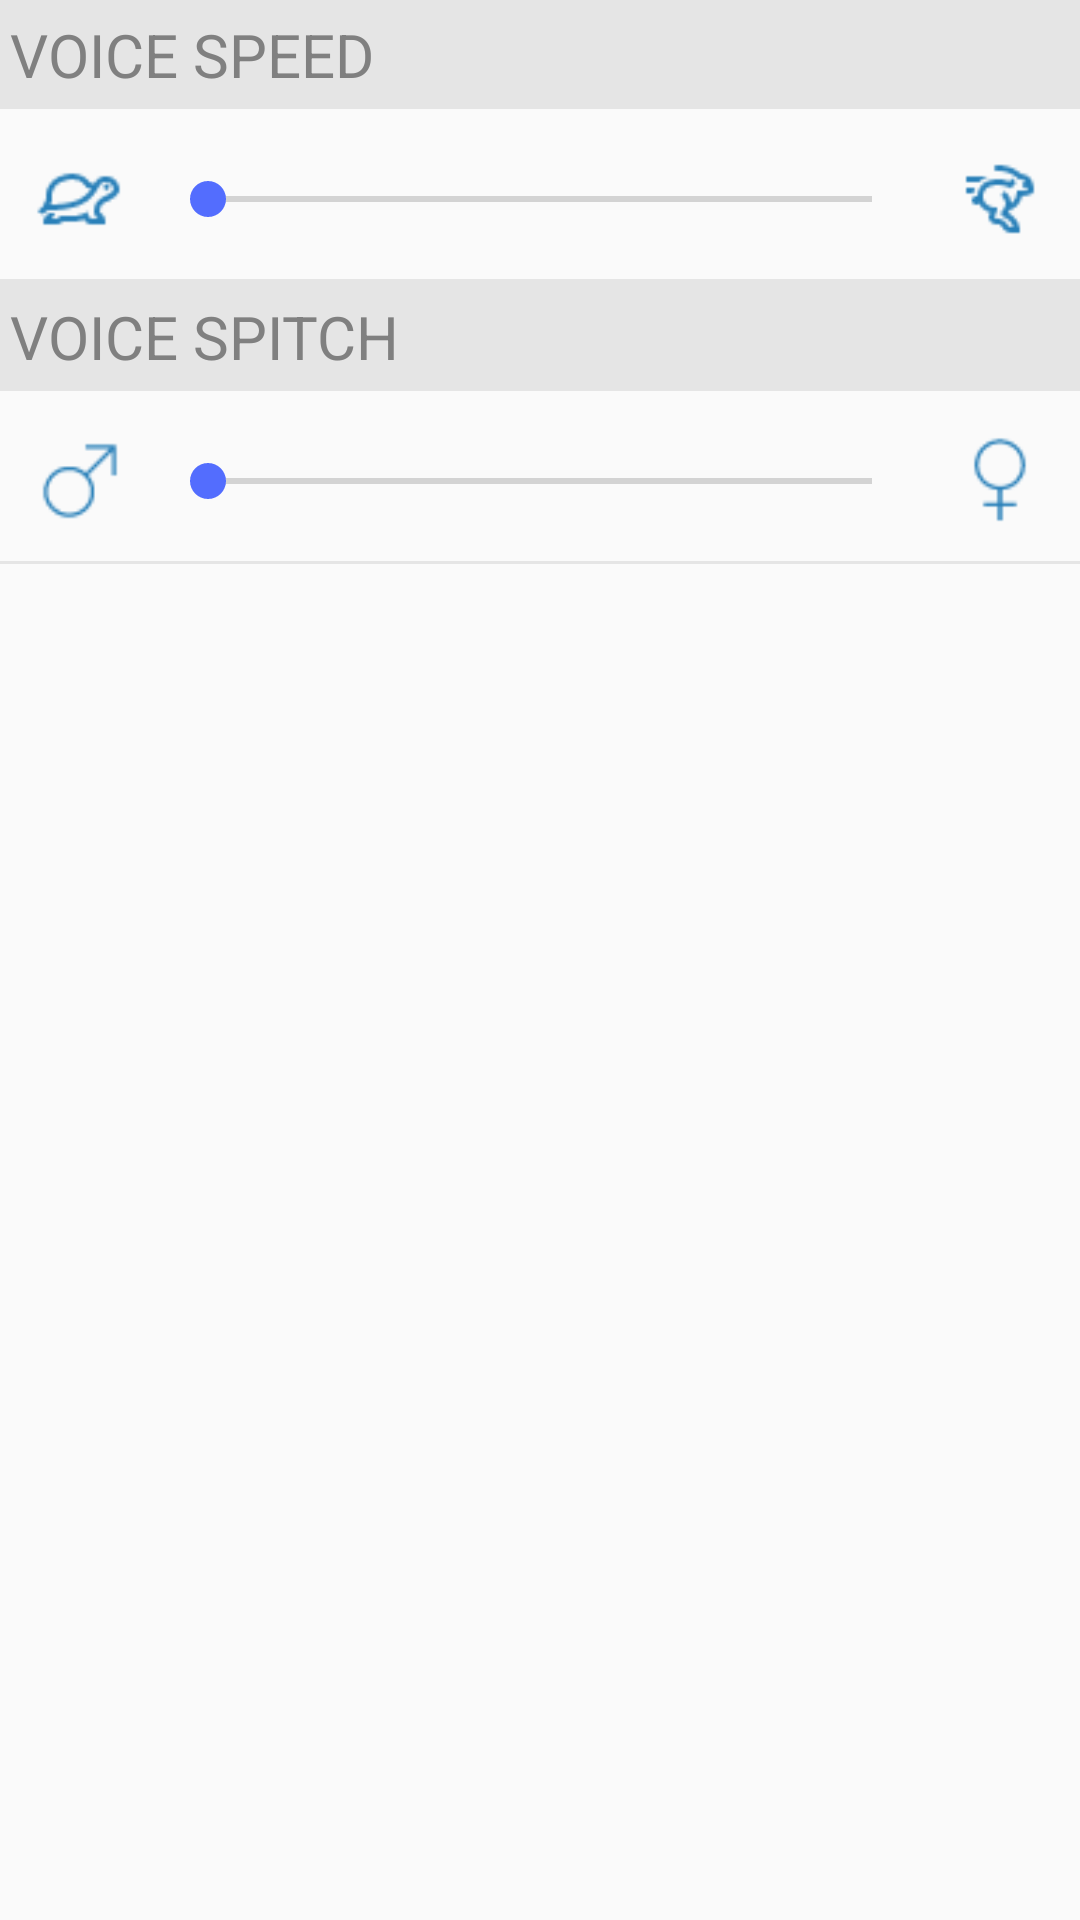

Screen size 1080px x 1920px. Icon name, then its center in pixels as point (x, y):
female: point (1000, 479)
highspeed: point (1000, 199)
lowspeed: point (78, 199)
male: point (80, 481)
